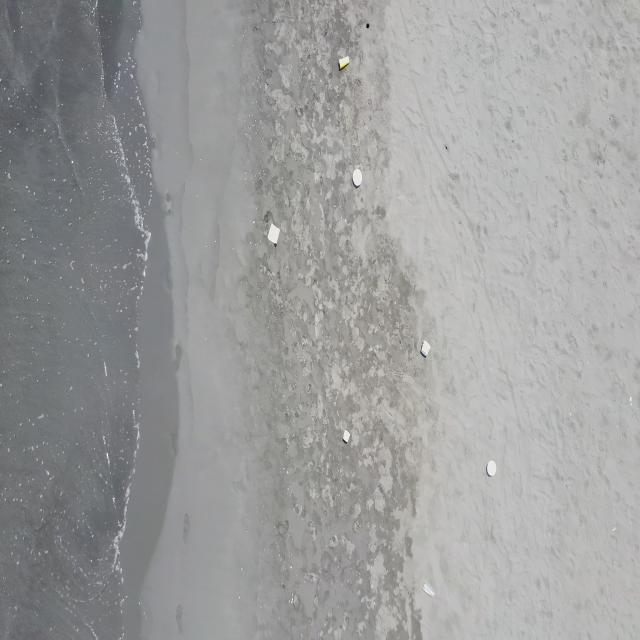take-away-containers: (268, 222, 280, 245), (352, 168, 363, 188), (421, 339, 431, 357), (487, 459, 497, 476), (342, 429, 350, 443)
takeaway-cup: (422, 579, 436, 599), (338, 56, 350, 70)
